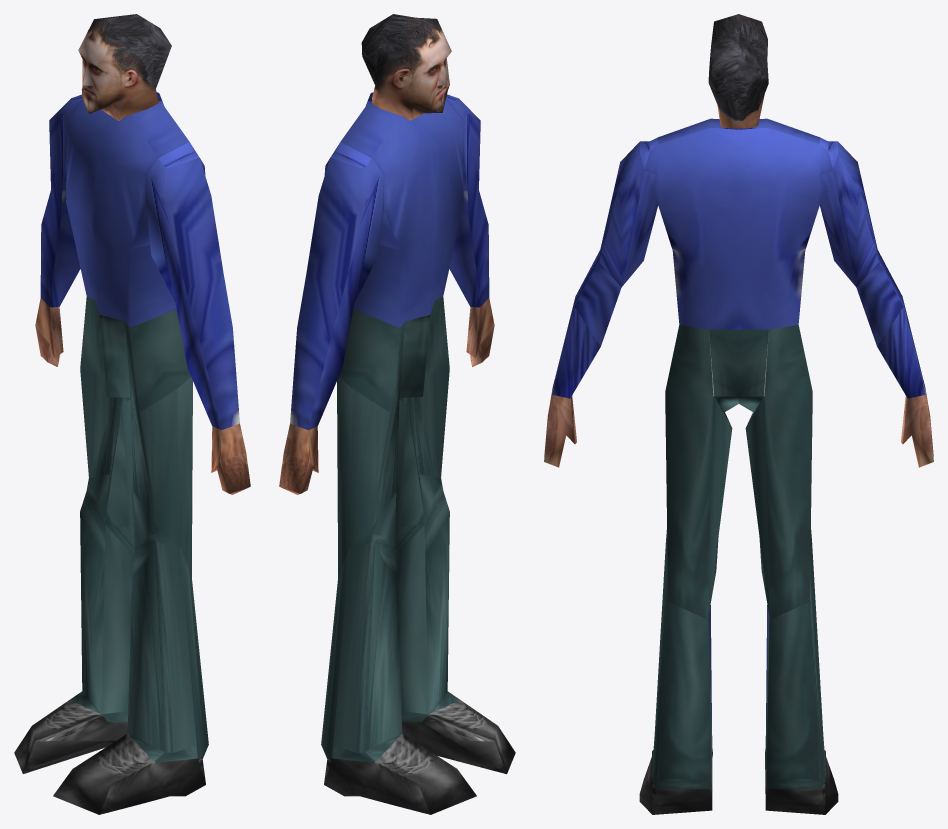
Rendered from man2.fbx.
3 views of the same model, side by side, from view 1: azimuth 30°, elevation 25°; view 2: azimuth 150°, elevation 25°; view 3: azimuth 270°, elevation 25° (orthographic). The views are drawn at different scales.
Visible parts, largest first — view 1: man2; view 2: man2; view 3: man2.
Part boxes in pixels (<box>): man2: <box>14,14,250,814</box>; man2: <box>279,14,515,814</box>; man2: <box>544,14,933,814</box>.
Size of the model in its own units: 34.73 by 186 by 84.77.
Materials: 2 (2 with a texture image).
